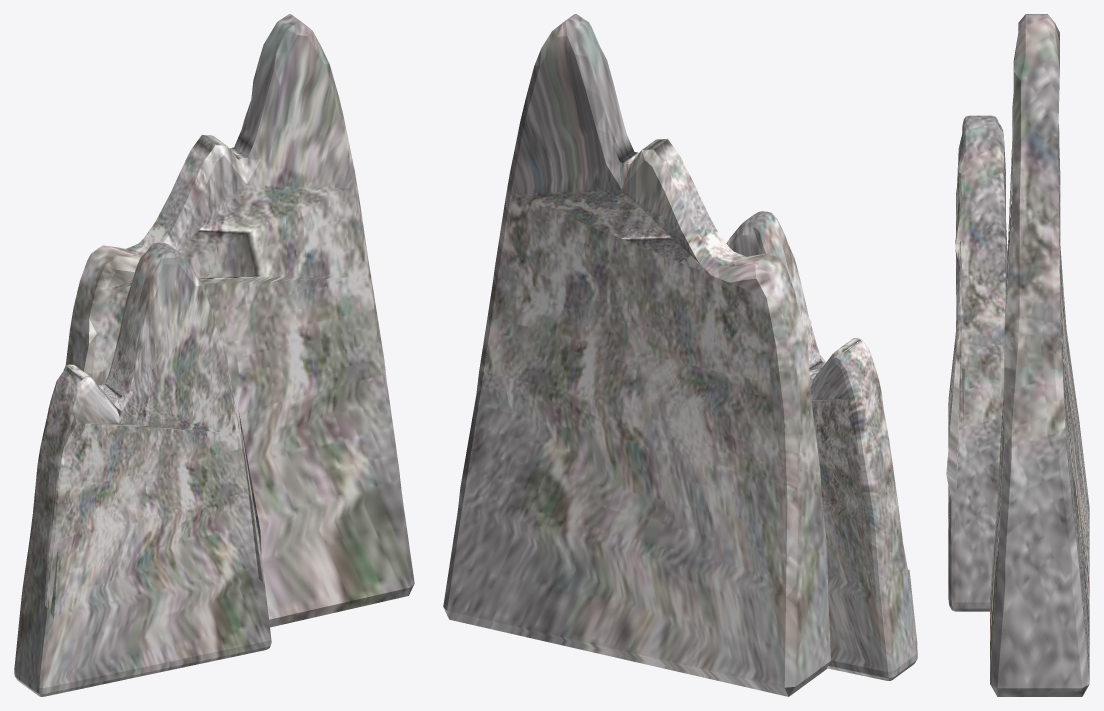
The model's file is đá chắn ô-1.obj.
The picture shows the model from 3 angles, left to right: view 1: azimuth 30°, elevation 25°; view 2: azimuth 150°, elevation 25°; view 3: azimuth 270°, elevation 25°; orthographic projection. The views are drawn at different scales.
Parts seen in each view (by area): view 1: Line008, Line009; view 2: Line008, Line009; view 3: Line008, Line009.
Part boxes in pixels (x1,y1,x2,y2): Line008: (65,14,414,627); Line009: (14,242,271,696); Line008: (443,14,830,696); Line009: (726,211,917,680); Line008: (990,14,1089,696); Line009: (946,115,1007,611).
Size of the model in its own units: 2.35 by 3.33 by 0.6842.
